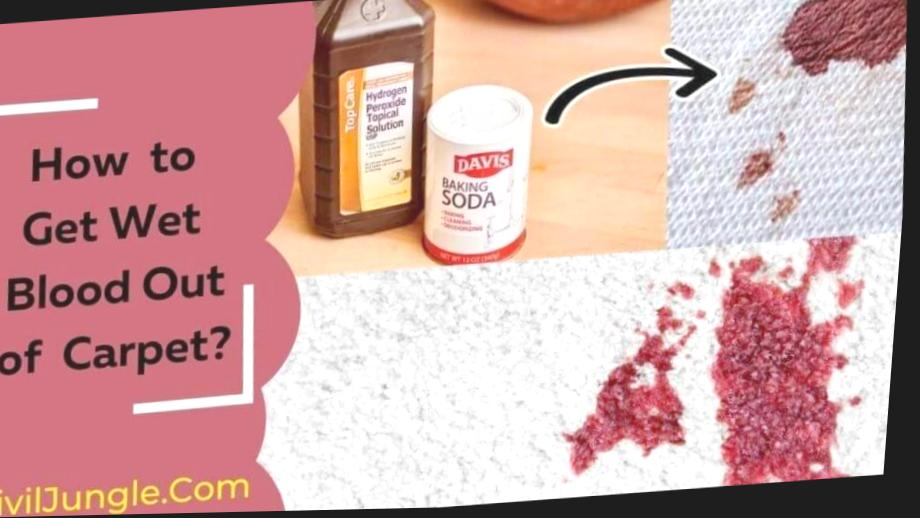Fire: (716, 238, 861, 489), (567, 333, 693, 477), (781, 0, 907, 79), (737, 155, 777, 197), (730, 78, 758, 116)
